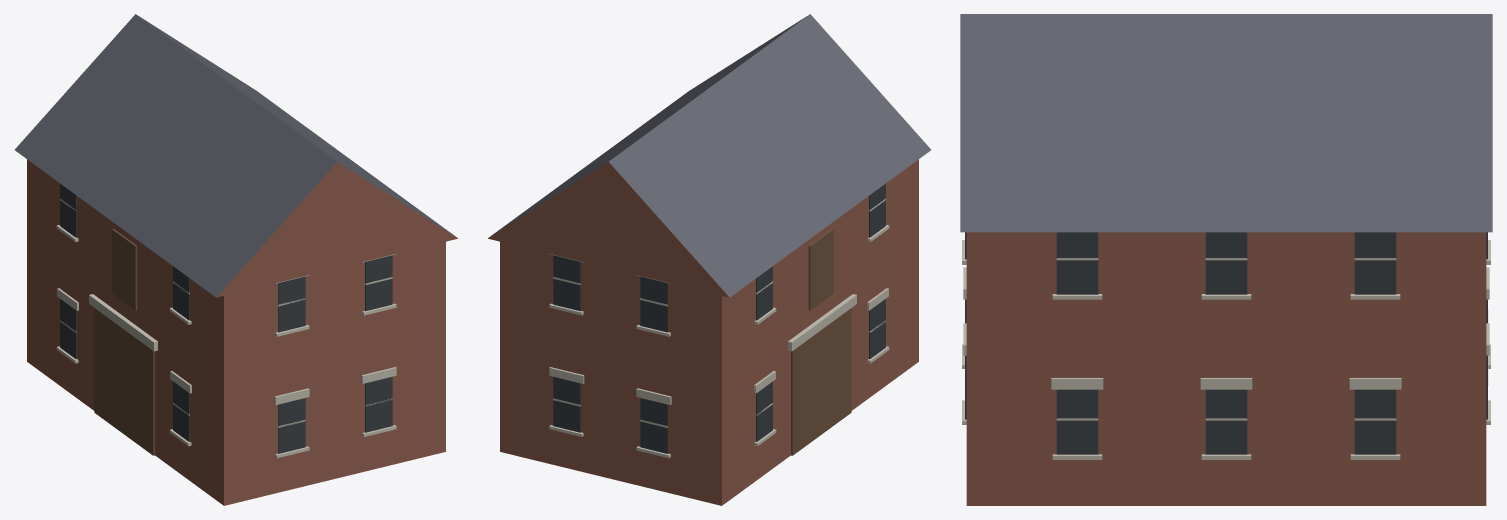
The model's file is house_1712_prairie_coach_house__draft_1904.glb.
3 views of the same model, side by side, from view 1: azimuth 30°, elevation 25°; view 2: azimuth 150°, elevation 25°; view 3: azimuth 270°, elevation 25° (orthographic). The views are drawn at different scales.
Visible parts, largest first — view 1: house_1712_prairie_coach_house__draft_1904; view 2: house_1712_prairie_coach_house__draft_1904; view 3: house_1712_prairie_coach_house__draft_1904.
Part boxes in pixels (box(x1,y1,x2,y2)): house_1712_prairie_coach_house__draft_1904: box(15, 14, 457, 505); house_1712_prairie_coach_house__draft_1904: box(488, 14, 930, 505); house_1712_prairie_coach_house__draft_1904: box(960, 14, 1492, 505).
Bounding box in the file's own units: 7.1 × 8.93 × 10.24.
